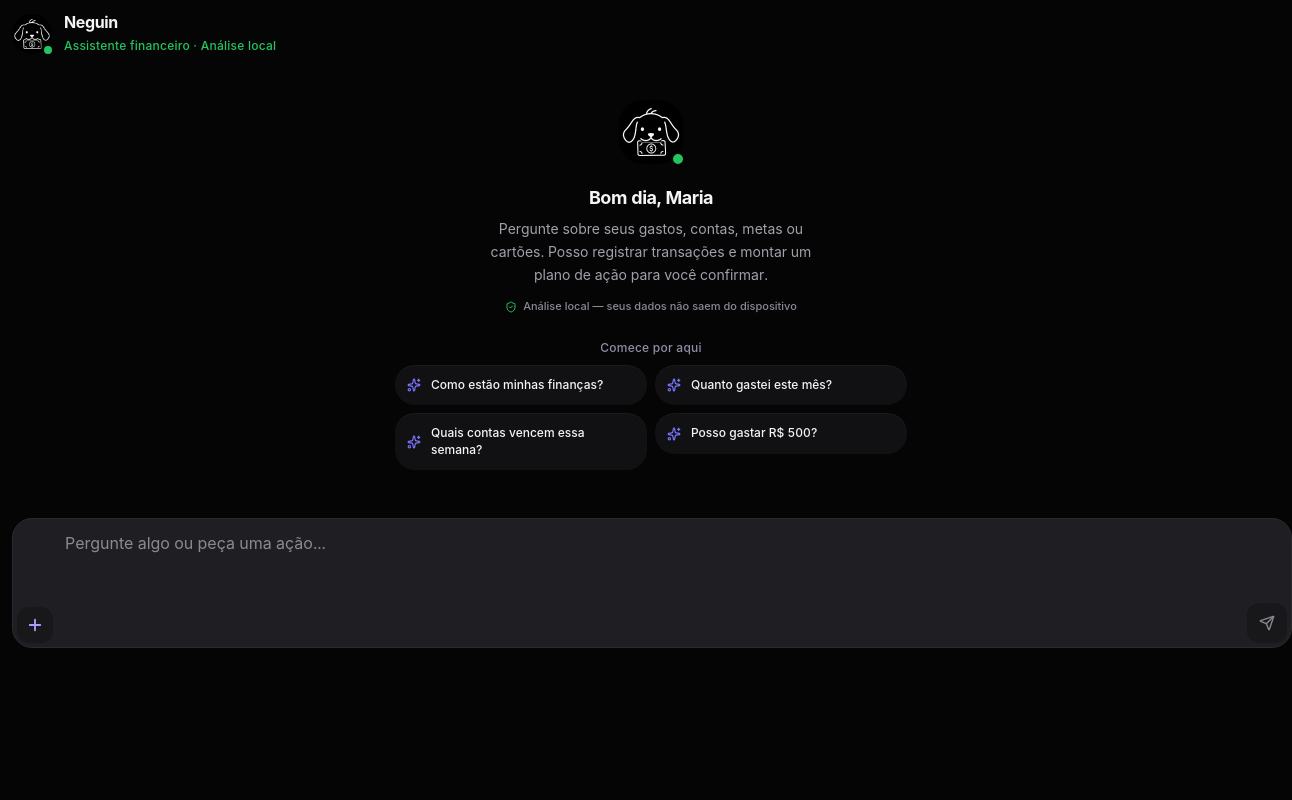
Test case: AIAssistantPage conditional auto-scroll › stops listening for scroll once the page unmounts
(page scrolled)
Click the button "Como estão minhas finanças?": (521, 385) top-left (395, 365), bottom-right (647, 405)
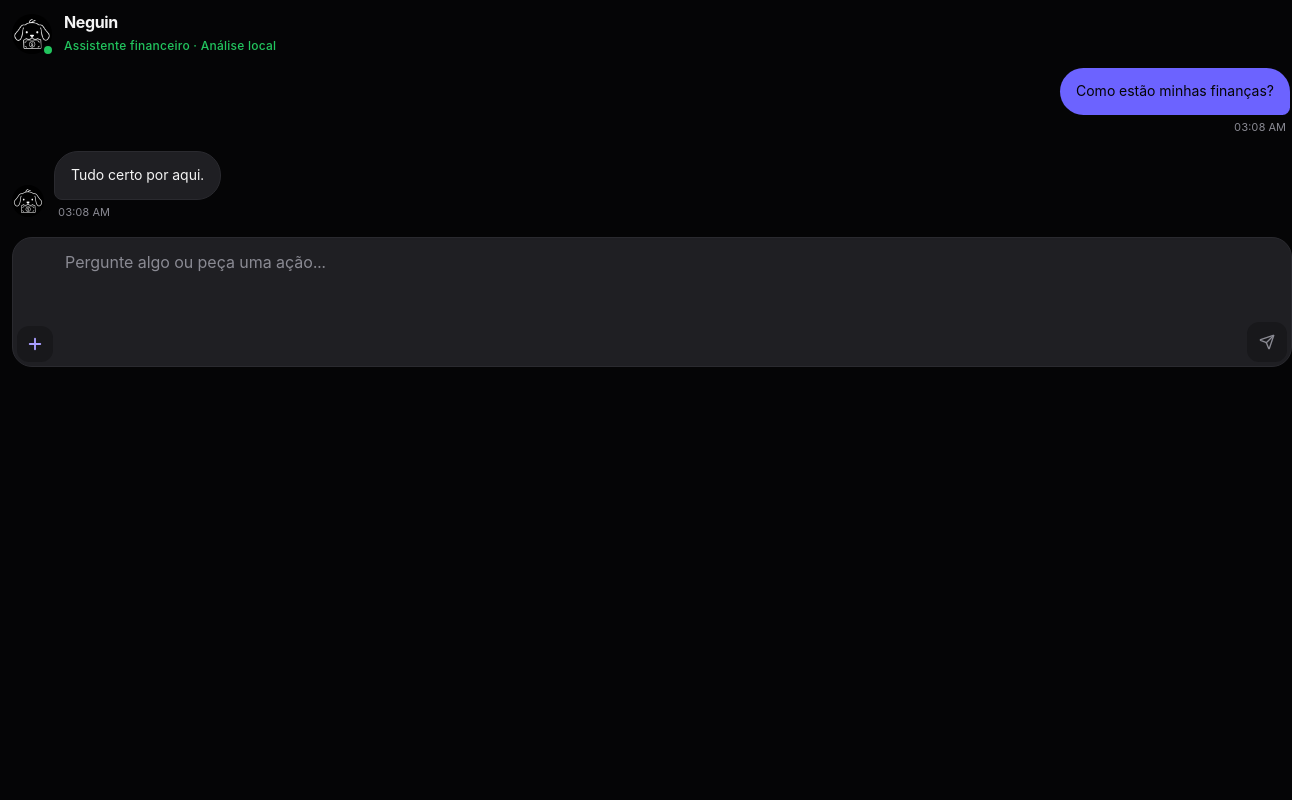
Result: the text "Tudo certo por aqui." is shown at top-left (71, 164), bottom-right (204, 187)
